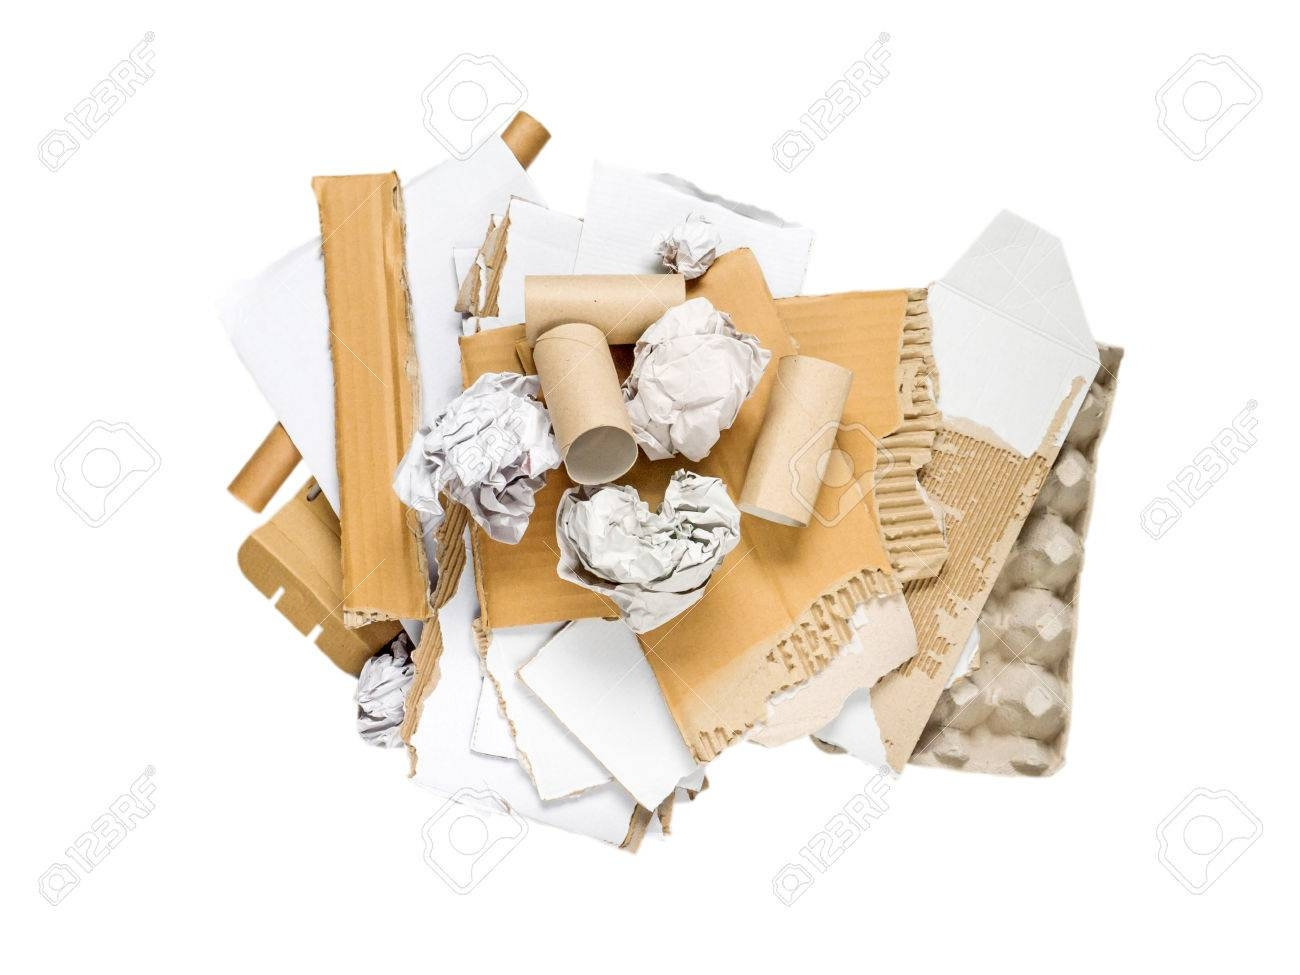paper: (836, 210, 1152, 801), (276, 137, 460, 647), (223, 477, 426, 694), (523, 459, 753, 634), (382, 353, 562, 552), (607, 286, 779, 469), (725, 335, 860, 539), (510, 313, 650, 496), (313, 632, 436, 762), (632, 200, 739, 296)
